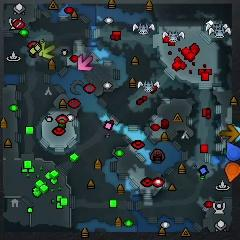p1: (227, 142, 240, 161)
p5: (225, 162, 240, 183)
x1: (77, 54, 94, 71)
x2: (38, 41, 55, 59)
x3: (234, 125, 240, 142)
x5: (220, 124, 239, 142)
